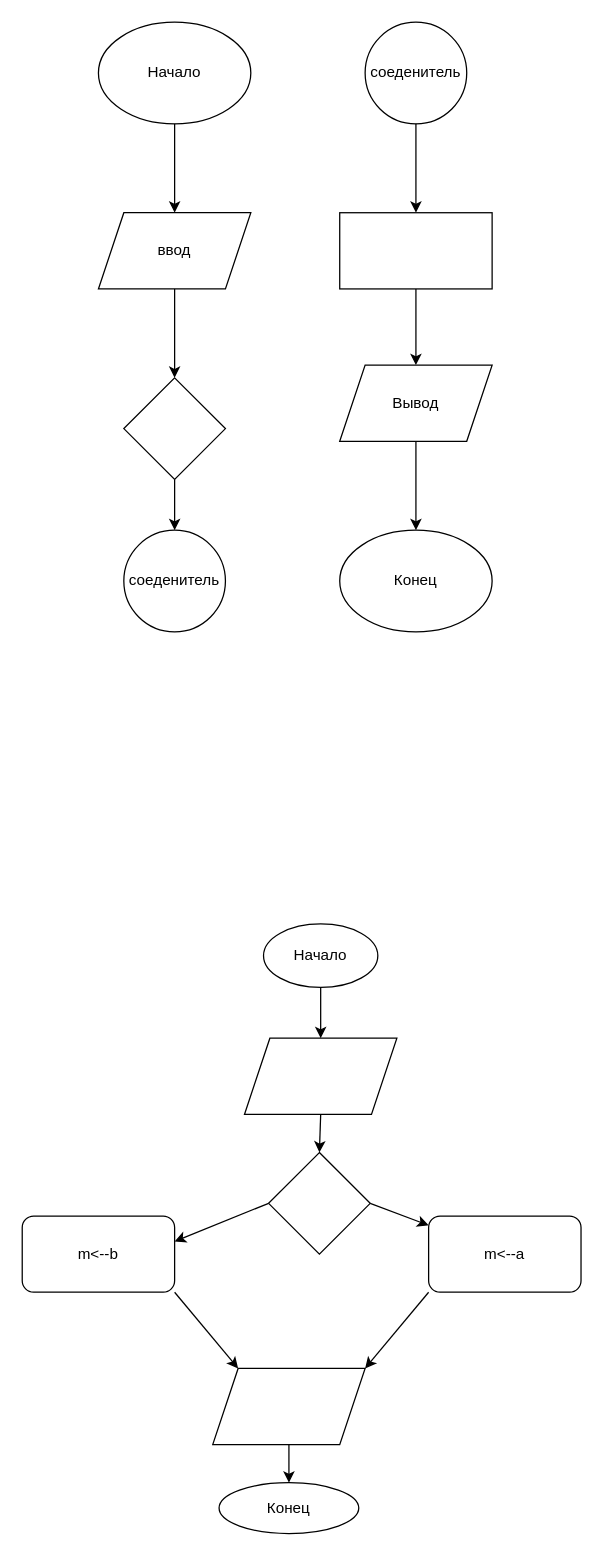
The diagram is 603 pixels wide and 1556 high, and some of its shapes have lost their labels. The centre of each missing label's shape, as x and y in pixels:
a>=b?: point 318,1202
Ввод a,b: point 320,1075
Вывод m: point 288,1406
действие: point 415,250
условие: point 174,428
